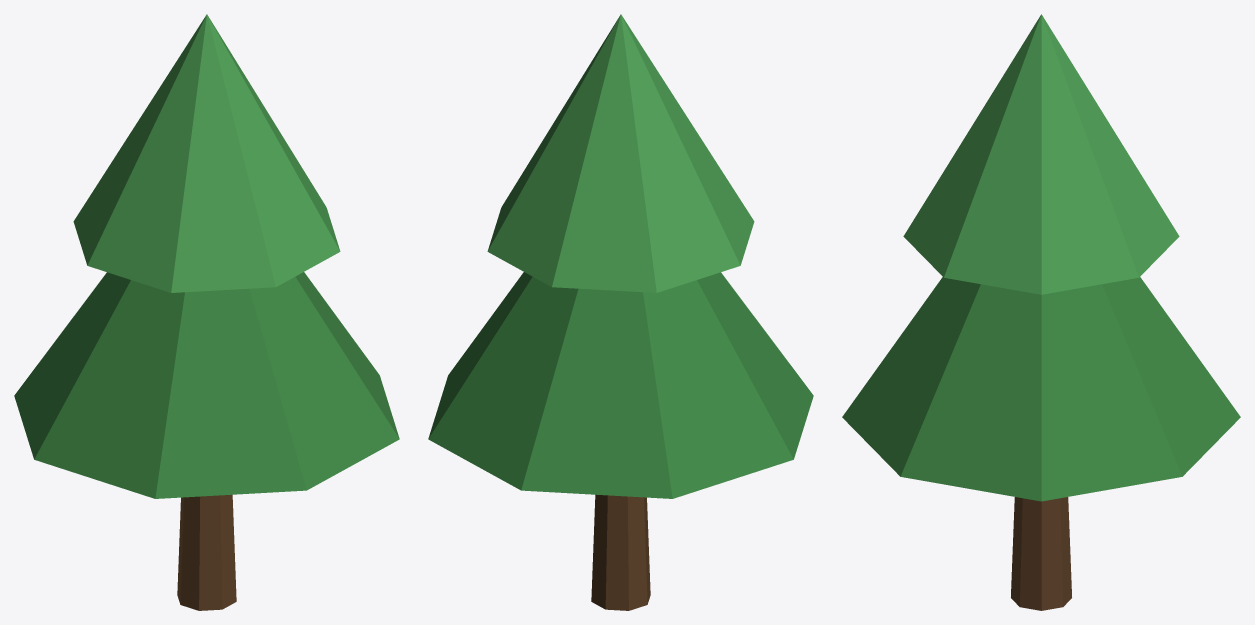
The model's file is tree.glb.
3 views of the same model, side by side, from view 1: azimuth 30°, elevation 25°; view 2: azimuth 150°, elevation 25°; view 3: azimuth 270°, elevation 25° (orthographic).
Parts seen in each view (by area): view 1: crown-lower, crown-upper, trunk; view 2: crown-lower, crown-upper, trunk; view 3: crown-lower, crown-upper, trunk.
Part boxes in pixels (bbox=[...]): crown-lower: bbox=[14, 272, 399, 498]; crown-upper: bbox=[73, 14, 340, 292]; trunk: bbox=[177, 494, 236, 610]; crown-lower: bbox=[428, 272, 813, 498]; crown-upper: bbox=[487, 14, 754, 292]; trunk: bbox=[591, 494, 650, 610]; crown-lower: bbox=[842, 277, 1240, 501]; crown-upper: bbox=[903, 14, 1179, 294]; trunk: bbox=[1011, 497, 1071, 610].
Size of the model in its own units: 2.6 by 4.2 by 2.6.
